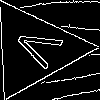V: (10, 24, 73, 74)
